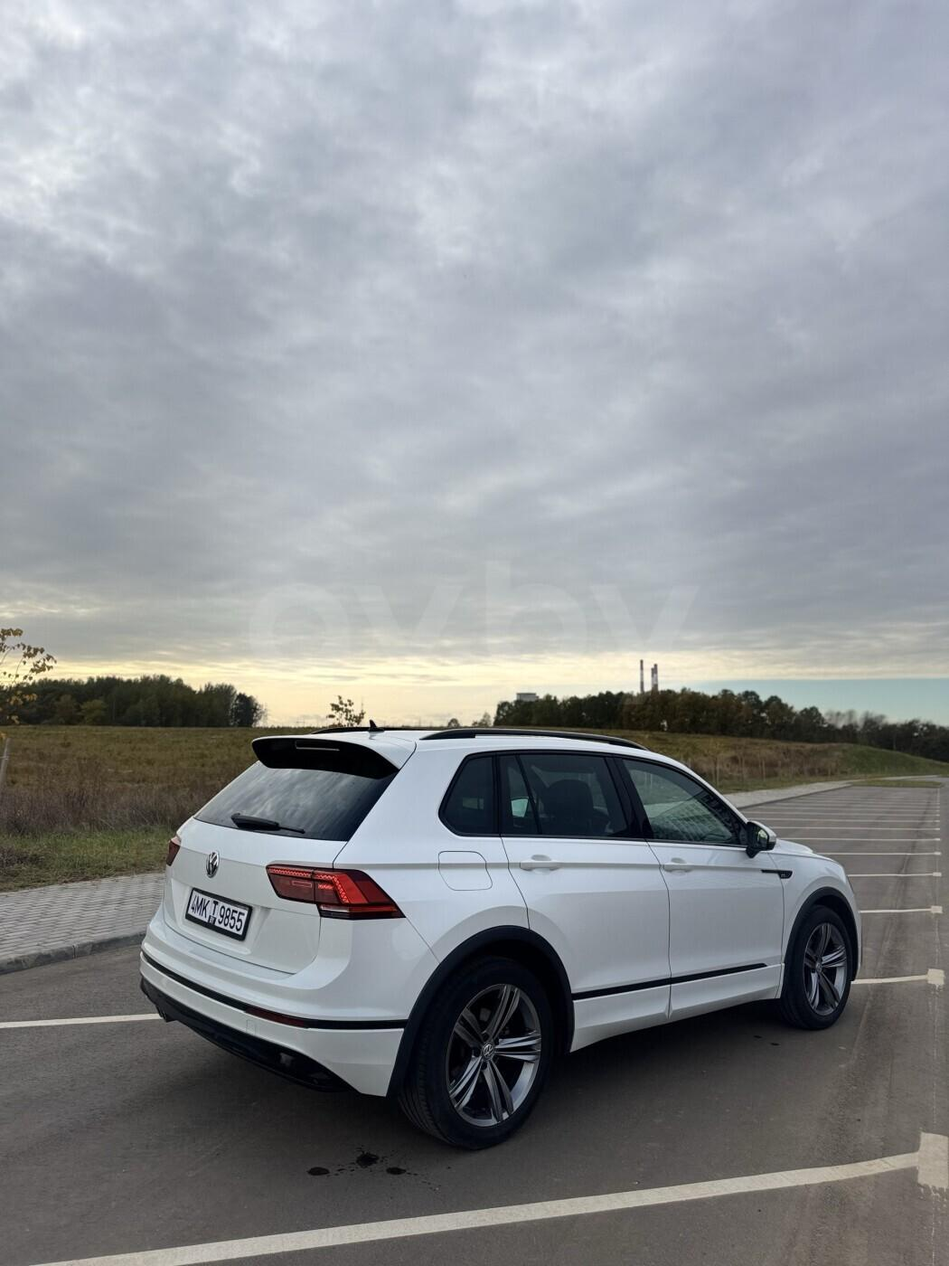Tiguan_2016-2021: (136, 722, 864, 1147)
